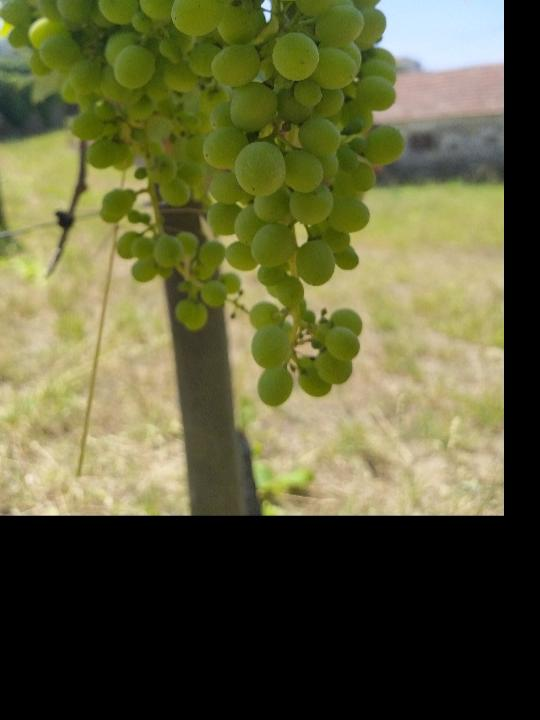grape: (0, 0, 407, 409)
